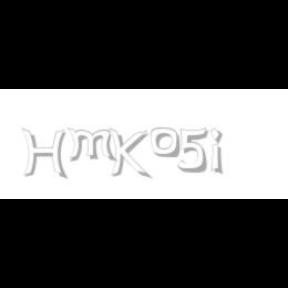5: (178, 128, 208, 174)
H: (21, 128, 67, 180)
K: (108, 128, 148, 180)
i: (210, 128, 226, 176)
m: (66, 128, 118, 162)
o: (150, 128, 180, 158)
